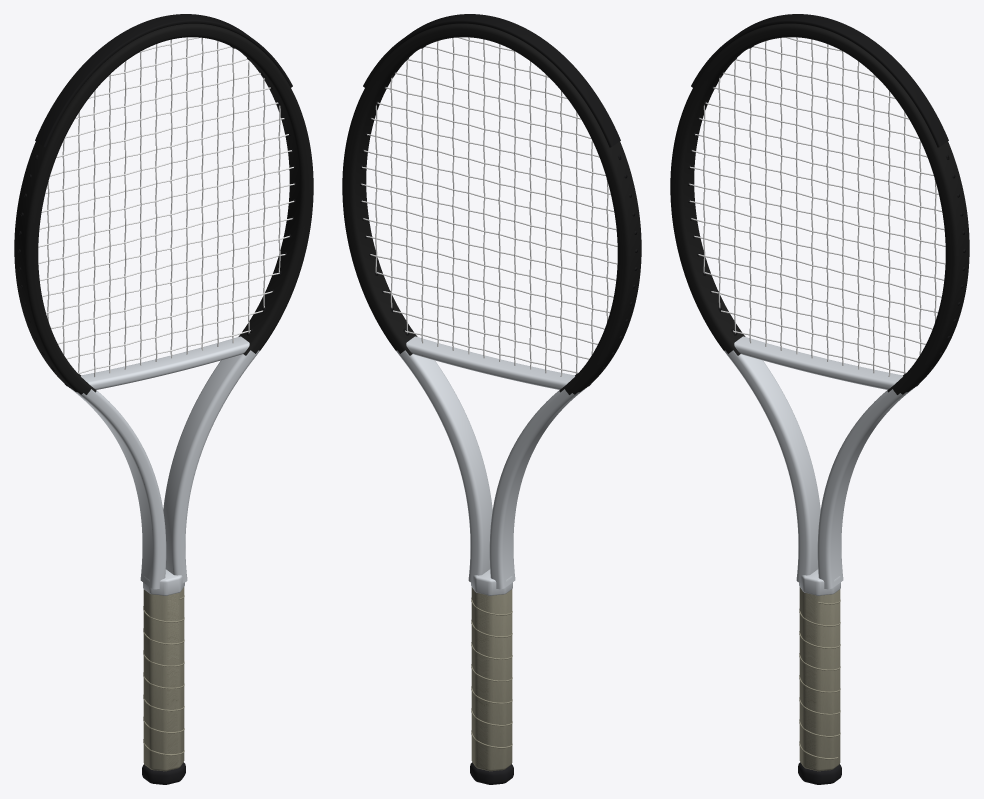
Rendered from tecnifibre-t-fight-300-2025.glb.
3 renders of one model, left to right at view 1: azimuth 30°, elevation 25°; view 2: azimuth 150°, elevation 25°; view 3: azimuth 330°, elevation 25°, orthographic.
Visible parts, largest first — view 1: Frame, Strings, Handle, Bumper, Yoke, GripSeam, ButtCap, Collar; view 2: Frame, Strings, Handle, Bumper, Yoke, GripSeam, ButtCap, Collar; view 3: Frame, Strings, Handle, Bumper, Yoke, GripSeam, ButtCap, Collar.
Boxes of the visible parts, x1,y1,x2,y2 form: Frame: (14, 23, 313, 589); Strings: (38, 37, 294, 377); Handle: (143, 587, 184, 771); Bumper: (35, 14, 292, 147); Yoke: (81, 336, 249, 389); GripSeam: (143, 595, 184, 755); ButtCap: (142, 762, 185, 784); Collar: (143, 569, 184, 595); Frame: (342, 23, 641, 589); Strings: (361, 37, 617, 376); Handle: (471, 587, 512, 771); Bumper: (363, 14, 620, 147); Yoke: (406, 336, 574, 389); GripSeam: (471, 598, 512, 748); ButtCap: (470, 762, 513, 784); Collar: (471, 569, 512, 595); Frame: (670, 23, 969, 589); Strings: (689, 37, 945, 376); Handle: (799, 587, 840, 771); Bumper: (691, 14, 948, 147); Yoke: (734, 336, 902, 389); GripSeam: (799, 600, 840, 759); ButtCap: (798, 762, 841, 784); Collar: (799, 569, 840, 595).
Bounding box in the file's own units: 0.2758 × 0.6886 × 0.0327.
6 materials, 1 textured.
